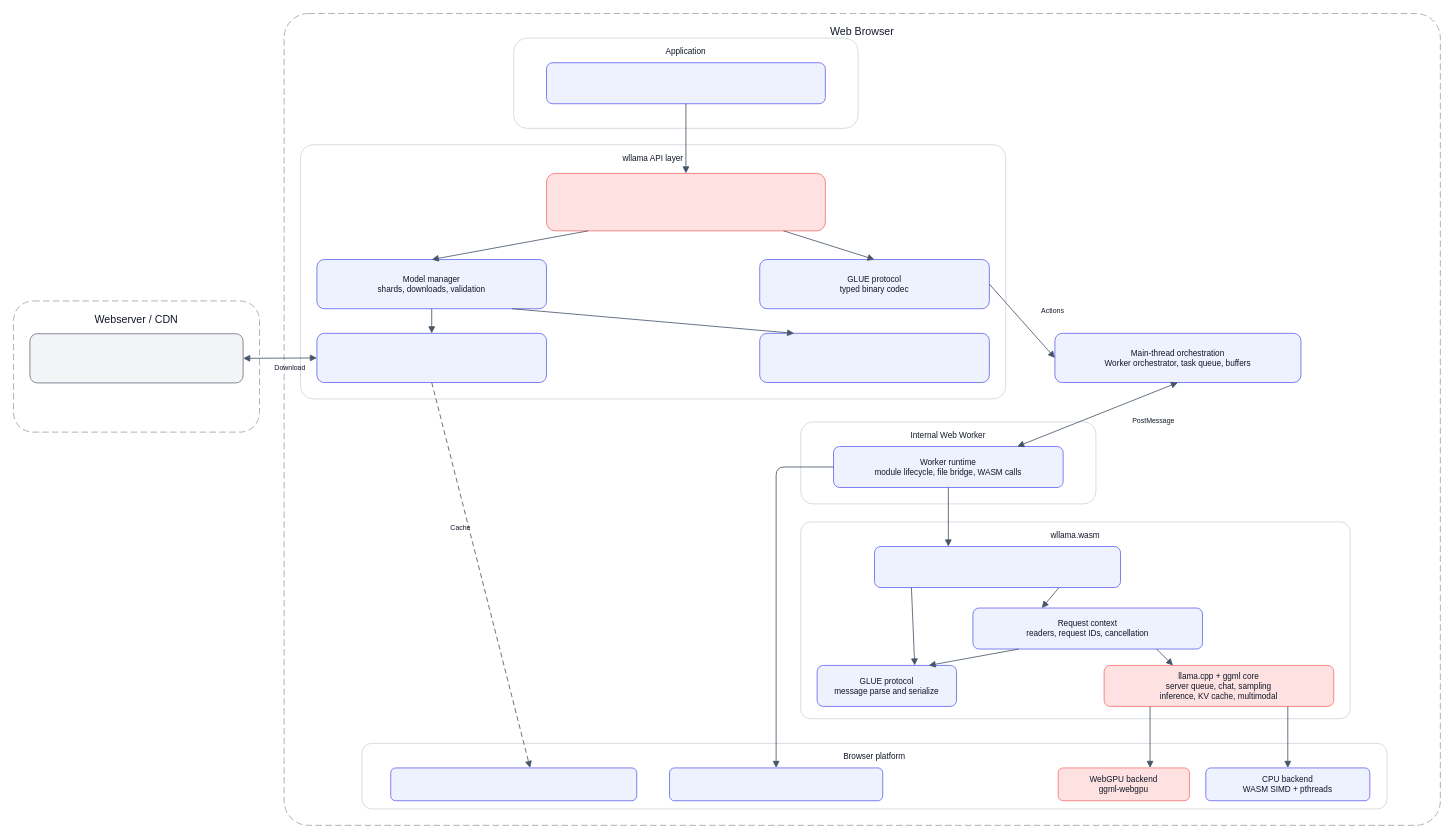
Some shapes in this 1454 by 839 pixel diagram are drawn without their labels. The centre of each missing label's shape, as x and y in pixels:
"Async runtime JSPI or Asyncify" belongs at (776,784).
"C ABI exports and action dispatch" belongs at (997,567).
"Cache manager metadata, integrity, storage policy" belongs at (431,358).
"HTTP(S) GGUF downloads" belongs at (136,358).
"Hugging Face resolver repo and file lookup" belongs at (874,358).
"OPFS / Cross-Origin Storage" belongs at (513,784).
"Web Application" belongs at (685,83).
"Wllama API load, chat, completion, embeddings, streaming" belongs at (685,202).
